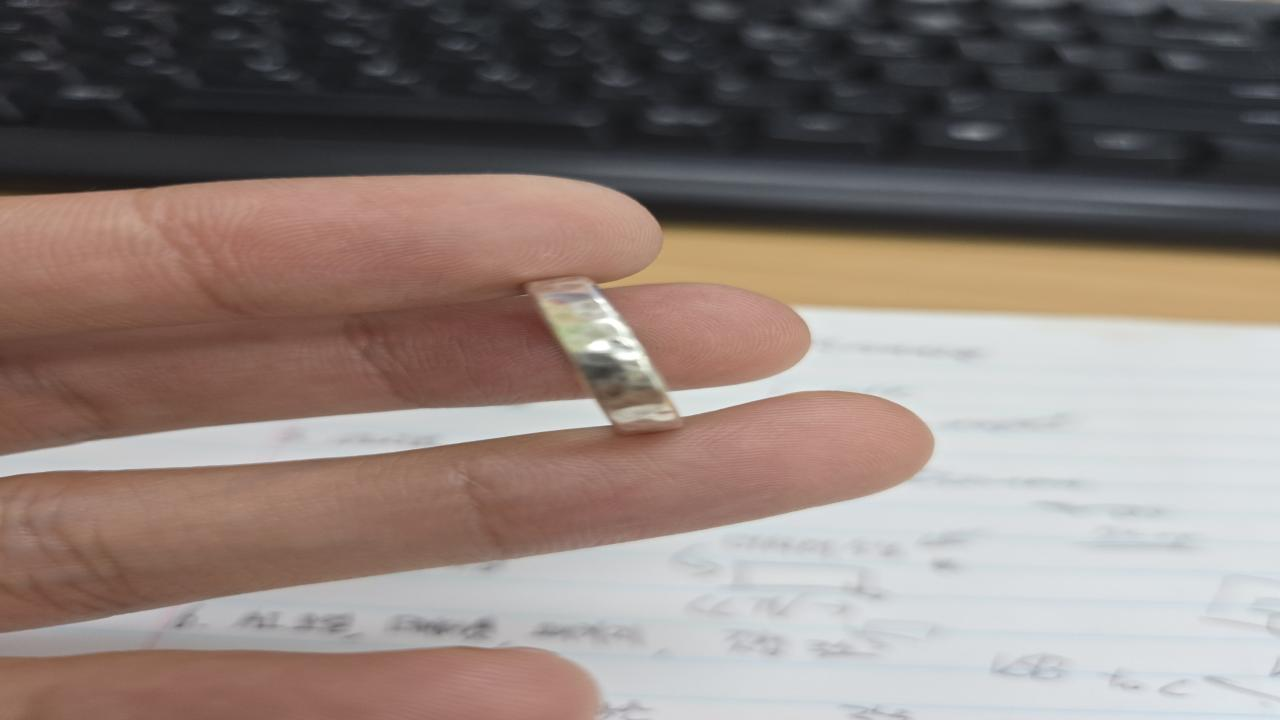ring: (519, 272, 687, 439)
